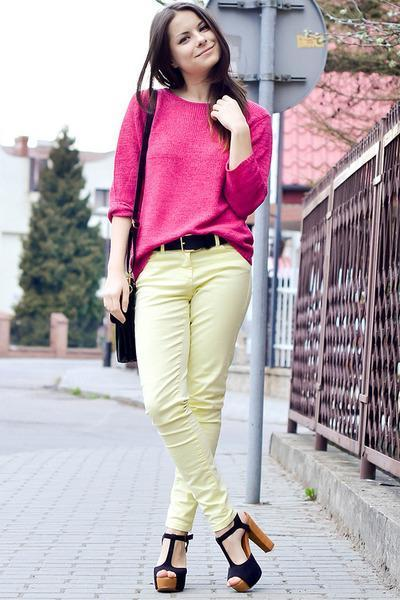sweater: (107, 88, 280, 253)
trousers: (128, 237, 268, 544)
